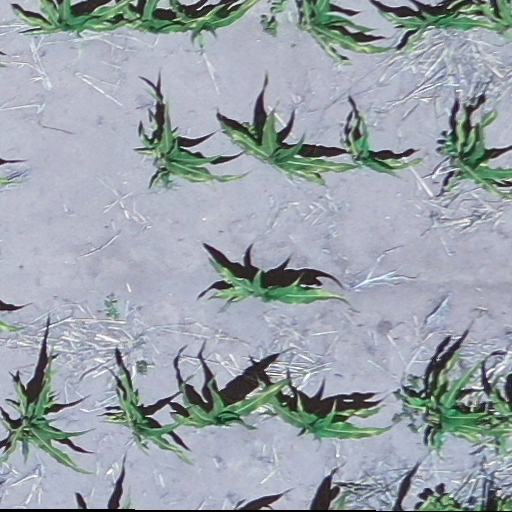planta: (217, 98, 361, 184), (132, 88, 250, 190), (397, 351, 499, 460), (97, 363, 192, 464), (256, 375, 397, 439), (169, 374, 300, 429), (205, 257, 351, 305), (342, 108, 428, 179)
